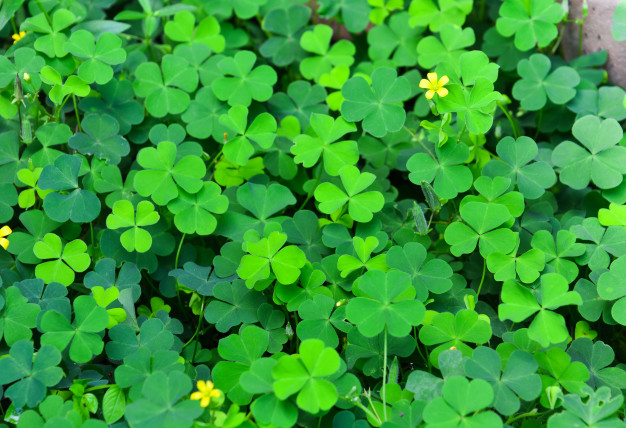clover: (1, 2, 626, 428)
